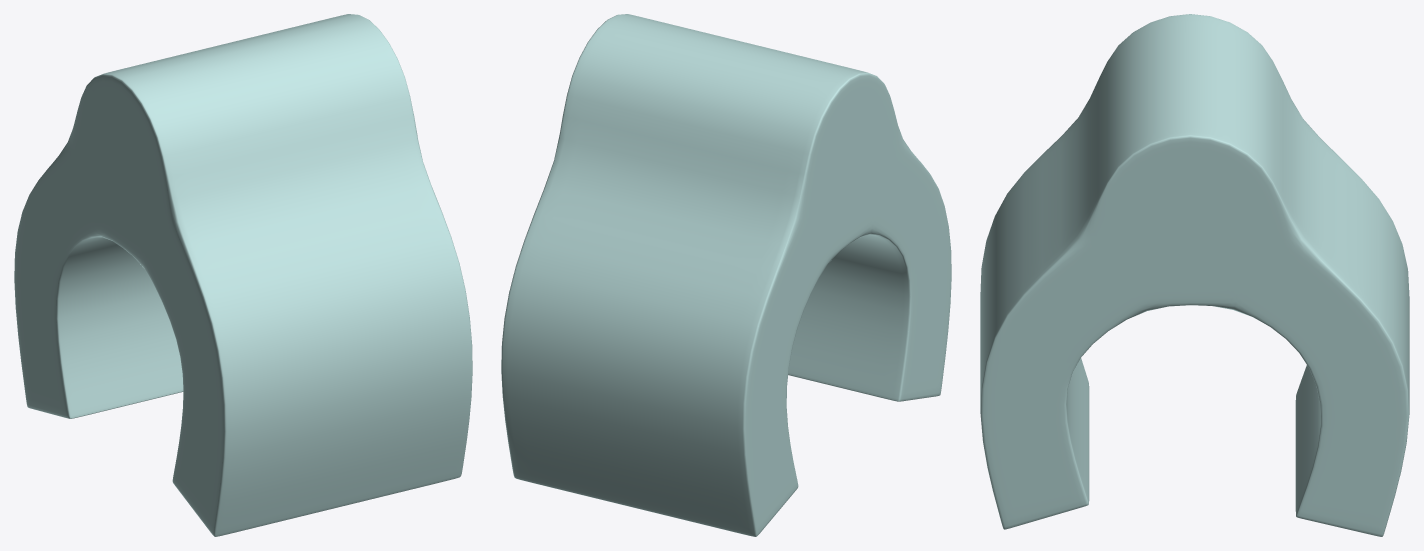
Rendered from robot_04.fbx.
The picture shows the model from 3 angles, left to right: view 1: azimuth 30°, elevation 25°; view 2: azimuth 150°, elevation 25°; view 3: azimuth 270°, elevation 25°; orthographic projection. The views are drawn at different scales.
Parts seen in each view (by area): view 1: hand1; view 2: hand1; view 3: hand1.
Boxes of the visible parts, box(x1,y1,x2,y2) form: hand1: box(14, 14, 472, 536); hand1: box(501, 14, 951, 536); hand1: box(980, 14, 1409, 536).
Size of the model in its own units: 3.64 by 5.57 by 5.38.
